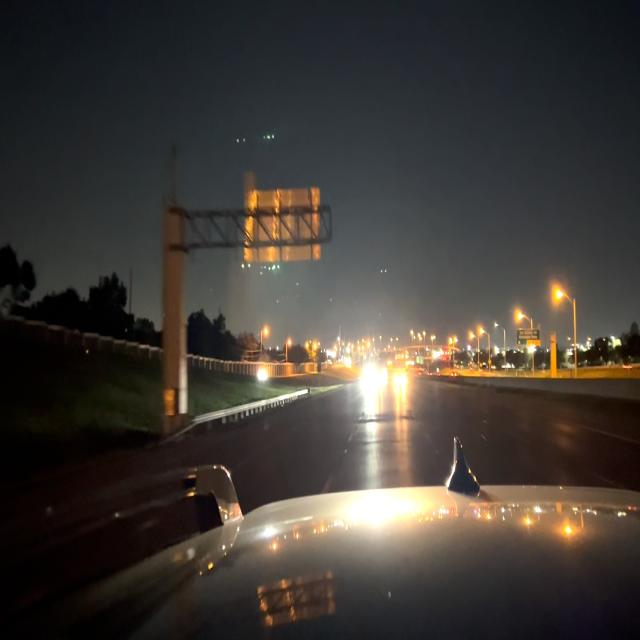back-of-sign: (246, 190, 320, 260), (245, 172, 255, 187)
